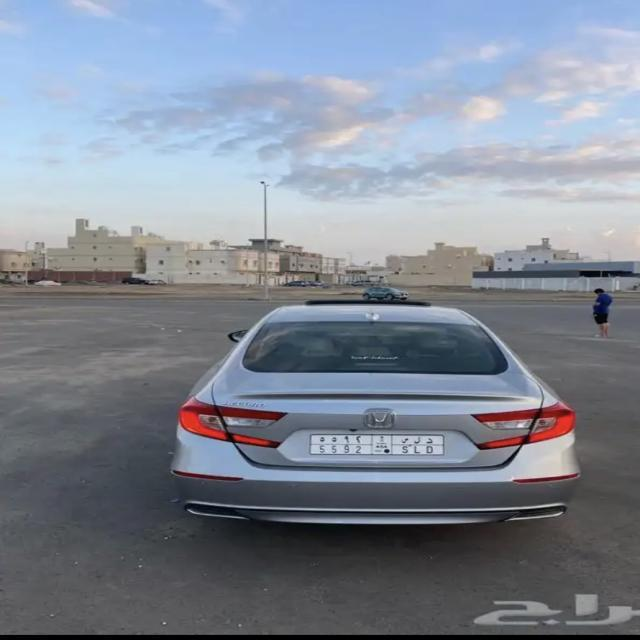license_plate: (308, 432, 450, 456)
